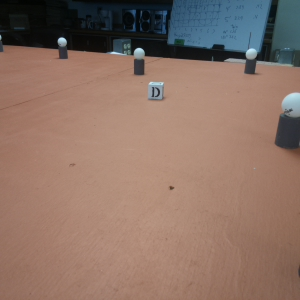obstacle: (277, 91, 300, 148), (133, 48, 145, 75), (245, 49, 257, 74), (56, 36, 69, 59)
